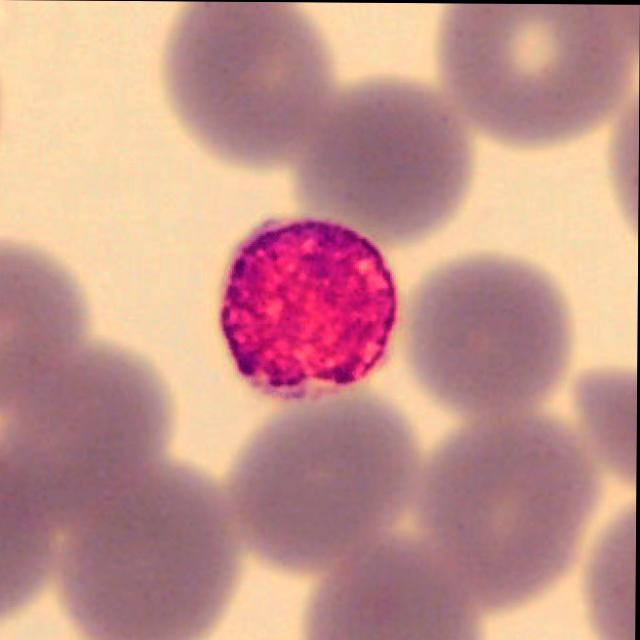Linfocito: (219, 220, 400, 402)
